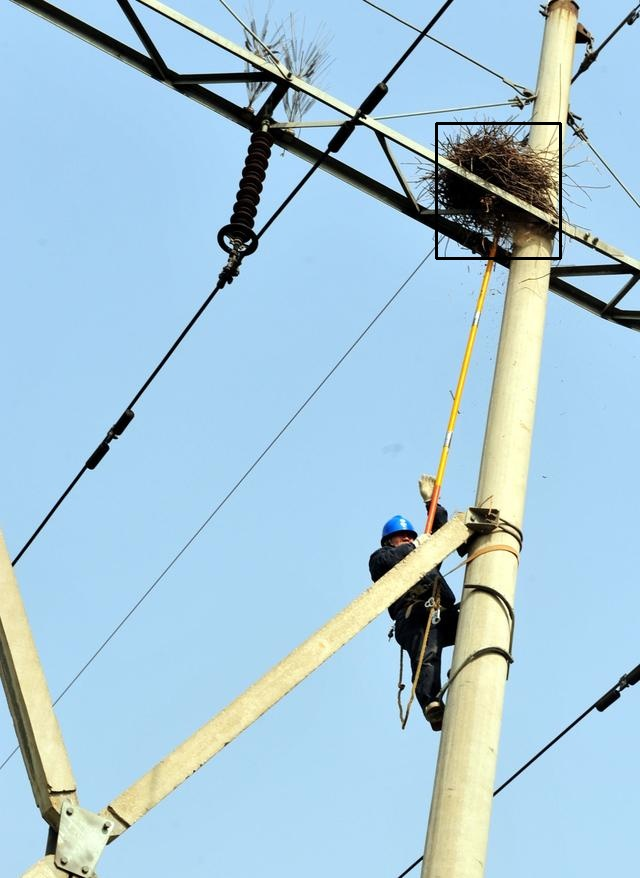bird-nest: (432, 133, 554, 228)
